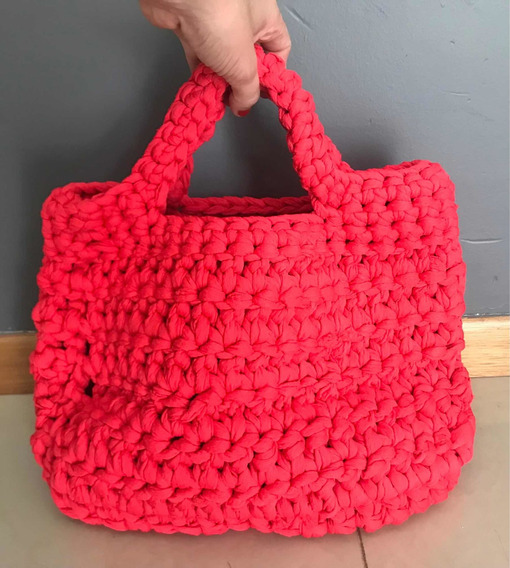cartera: (29, 43, 478, 539)
